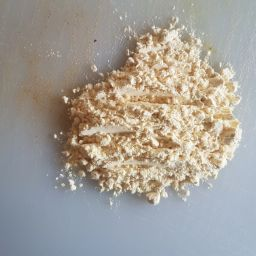Gram/ Flour: (99, 3, 248, 236), (13, 77, 228, 208), (110, 18, 221, 183), (134, 101, 207, 161)
